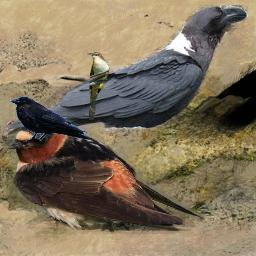Crow: (3, 5, 248, 138), (8, 96, 91, 142)
Cuckoo: (87, 52, 110, 120)
Swallow: (8, 117, 205, 234)
